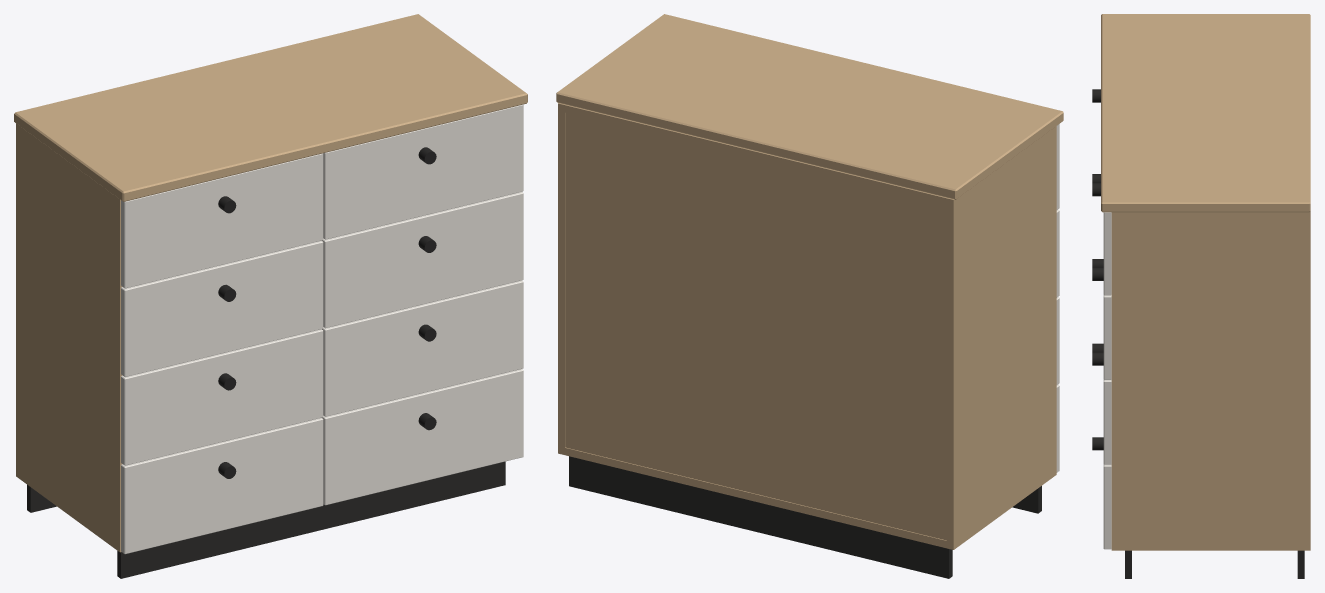
The model's file is 13_komoda_100_2x4.glb.
3 views of the same model, side by side, from view 1: azimuth 30°, elevation 25°; view 2: azimuth 150°, elevation 25°; view 3: azimuth 270°, elevation 25° (orthographic). The views are drawn at different scales.
Parts seen in each view (by area): view 1: Wierzch, Korpus, Front_szuflada_3, Front_szuflada_4, Front_szuflada_2, Front_szuflada_7, Front_szuflada_6, Front_szuflada_8, Front_szuflada_1, Front_szuflada_5, Cokol, Uchwyty; view 2: Korpus, Wierzch, Cokol; view 3: Korpus, Wierzch, Uchwyty, Front_szuflada_8, Front_szuflada_6, Front_szuflada_7, Front_szuflada_5, Cokol.
Part boxes in pixels (x1,y1,x2,y2): Wierzch: (14, 14, 527, 201); Korpus: (16, 123, 122, 552); Front_szuflada_3: (121, 329, 323, 465); Front_szuflada_4: (121, 418, 323, 554); Front_szuflada_2: (121, 240, 323, 376); Front_szuflada_7: (322, 280, 523, 416); Front_szuflada_6: (322, 192, 523, 328); Front_szuflada_8: (322, 369, 523, 505); Front_szuflada_1: (121, 153, 323, 288); Front_szuflada_5: (323, 104, 523, 239); Cokol: (27, 461, 505, 578); Uchwyty: (218, 147, 436, 478); Korpus: (558, 103, 1056, 549); Wierzch: (556, 14, 1063, 199); Cokol: (569, 456, 1041, 578); Korpus: (1111, 211, 1310, 550); Wierzch: (1101, 14, 1310, 212); Uchwyty: (1092, 89, 1103, 450); Front_szuflada_8: (1103, 464, 1111, 549); Front_szuflada_6: (1103, 295, 1111, 379); Front_szuflada_7: (1103, 379, 1111, 464); Front_szuflada_5: (1103, 212, 1111, 295); Cokol: (1125, 550, 1304, 578).
Size of the model in its own units: 1.01 by 0.95 by 0.494.
